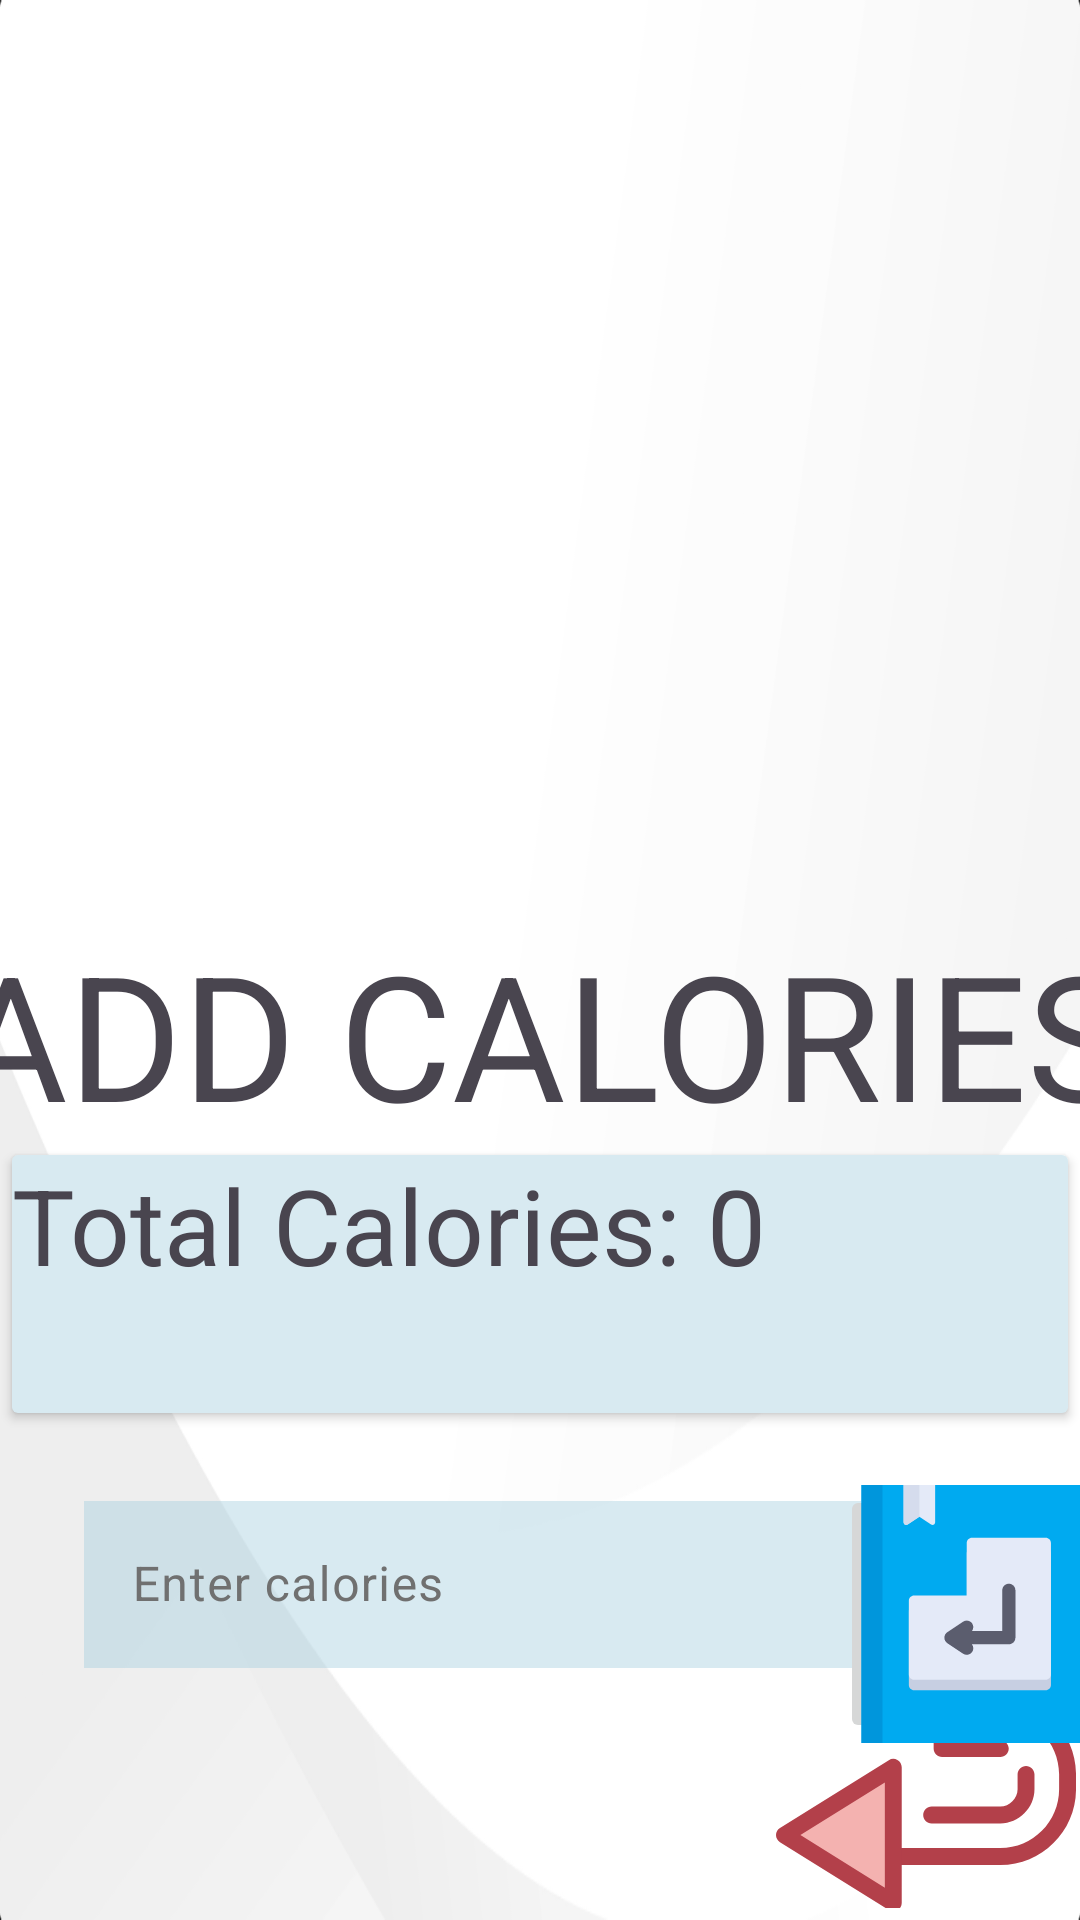

Icons on this 1080px×1920px Android screen, each with its box as (x1, y1, x2, y2):
return: (776, 1701, 1080, 1908)
